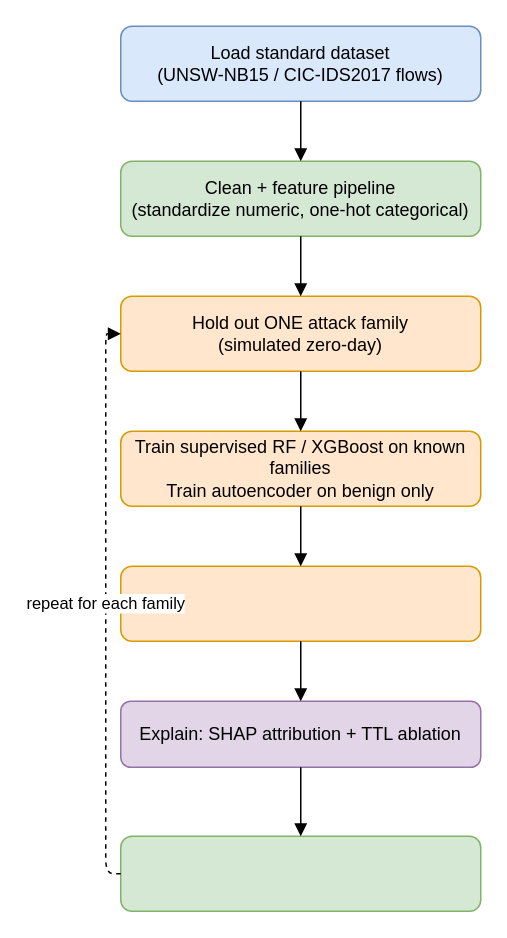
Image size: 507x938. Some labels were removed from this diagram. The centre of each missing label's shape, as x and y in pixels:
"Aggregate across all families + compare with prior work" belongs at point 300,873.
"Score held-out family at matched FPR (ROC-AUC, recall@1%/5% FPR)" belongs at point 300,603.
